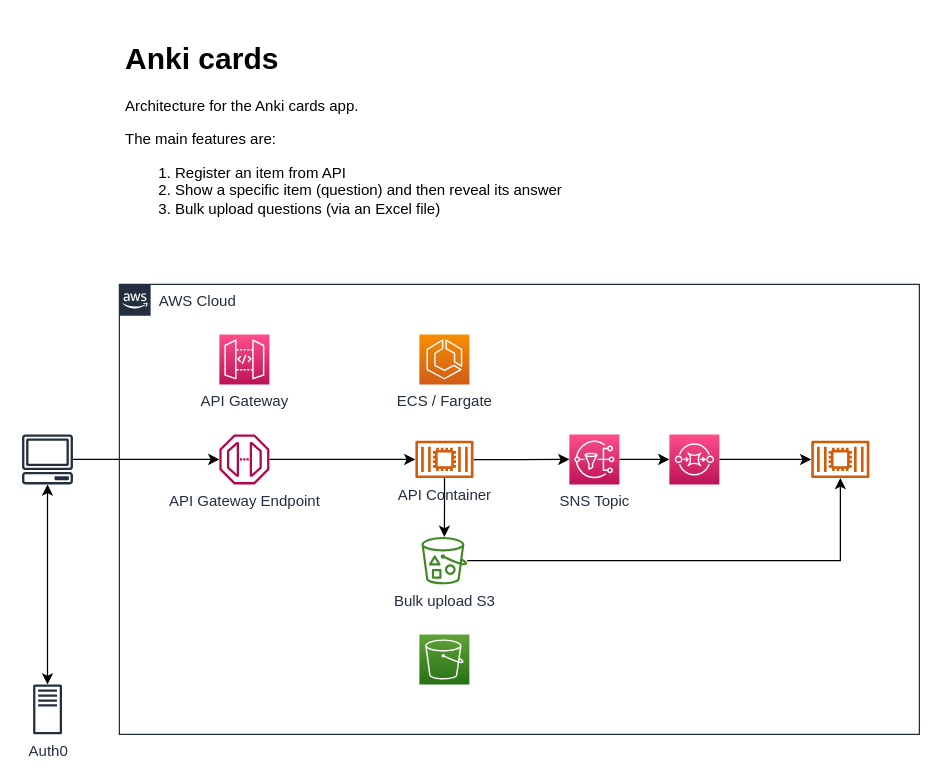
The diagram is 941 pixels wide and 781 high, and some of its shapes have lost their labels. The box of each missing label's shape, as (x1, y1, x2, y2) in pixels:
Amazon S3: (418, 633, 469, 684)
Backend Container: (811, 440, 869, 478)
Client: (21, 434, 72, 484)
SQS Queue: (668, 433, 719, 484)
